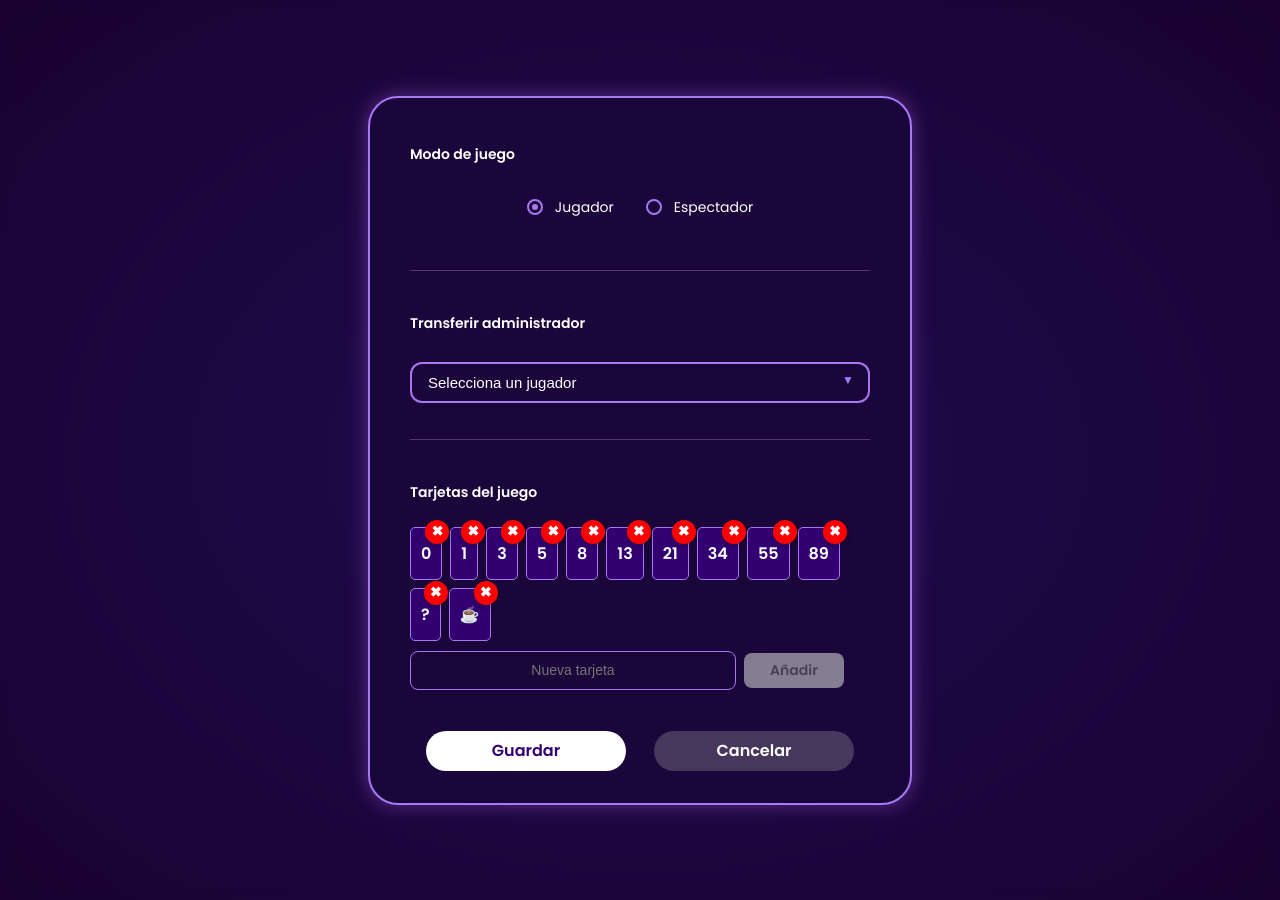
it: ModalUserSettings › debe eliminar una tarjeta al hacer clic en el botón ✖
This screenshot has width=1280, height=900.
Expected: the button with test id "card-1" is shown, [450,526,478,580]
// Simula click en el botón ✖ dentro de esa tarjeta
Click the 2nd button "✖": click(473, 532) [461,520,485,544]
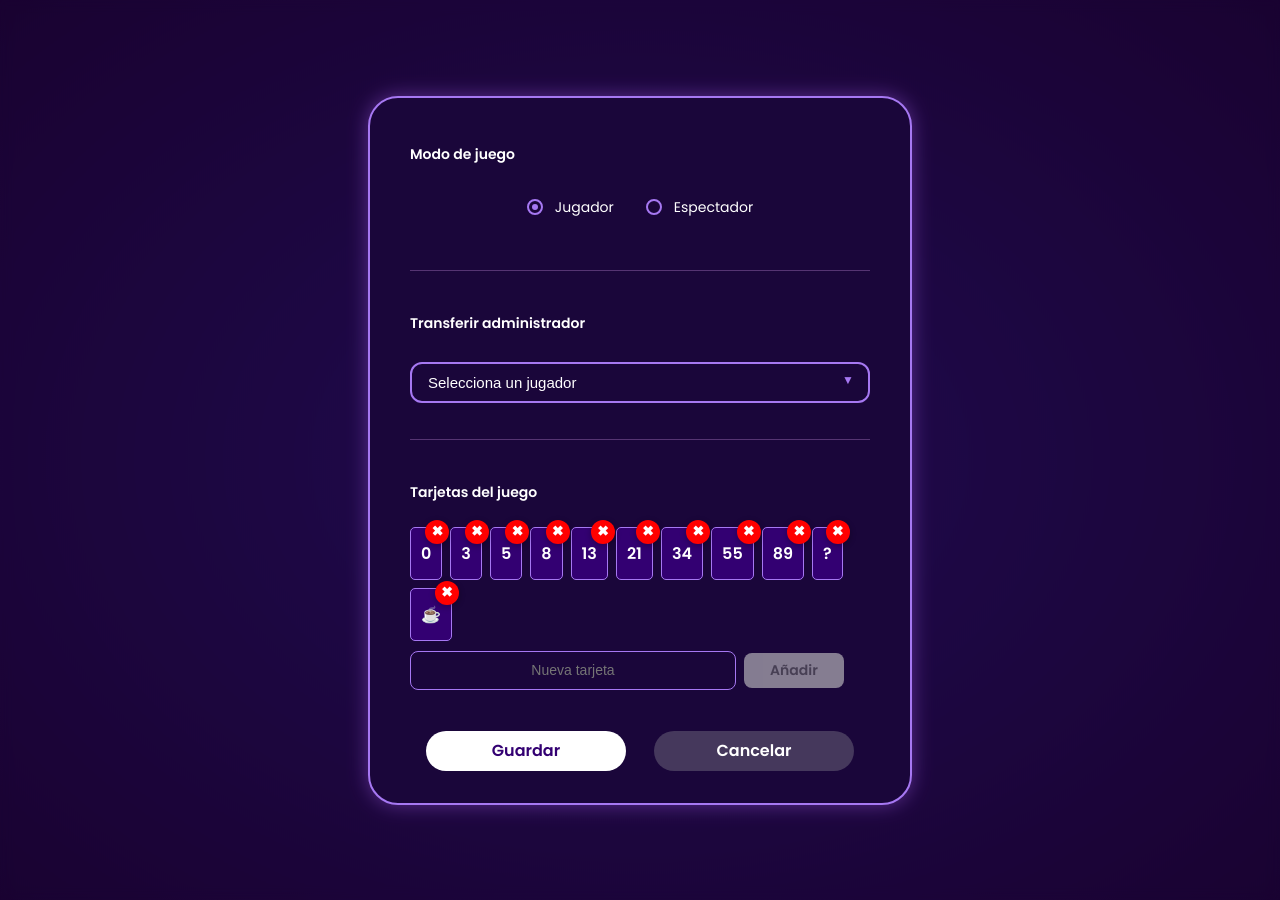
Now the button with test id "card-1" is gone
